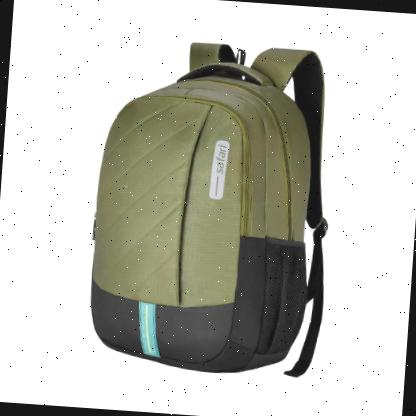bag: (73, 30, 350, 384)
